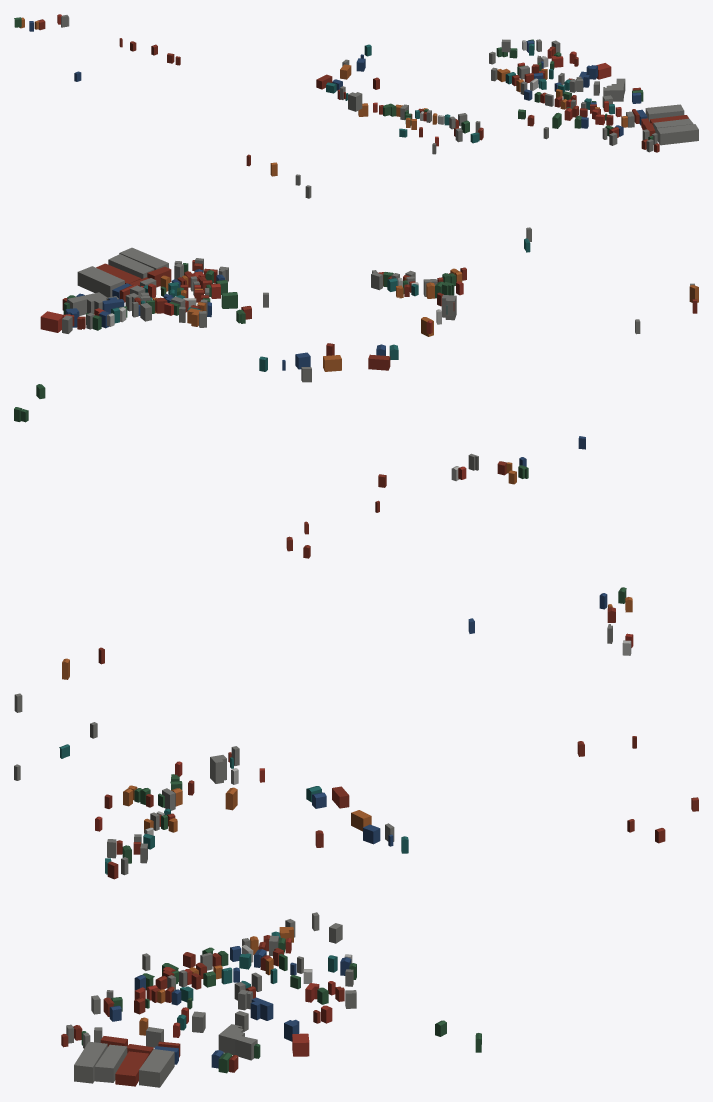
Rendered from near-15-27365-14873.fd6d237e.glb.
The picture shows the model from 3 angles, top to bottom: view 1: azimuth 30°, elevation 25°; view 2: azimuth 150°, elevation 25°; view 3: azimuth 270°, elevation 25°; orthographic projection. The views are drawn at different scales.
Bounding box in the file's own units: 1219 × 249 × 995.
